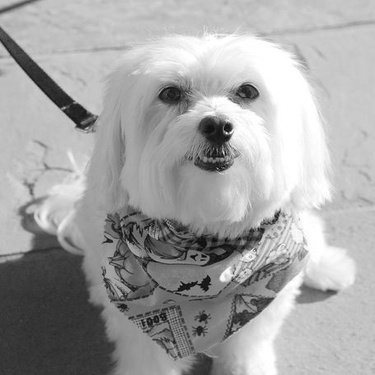dog: (8, 15, 360, 373)
